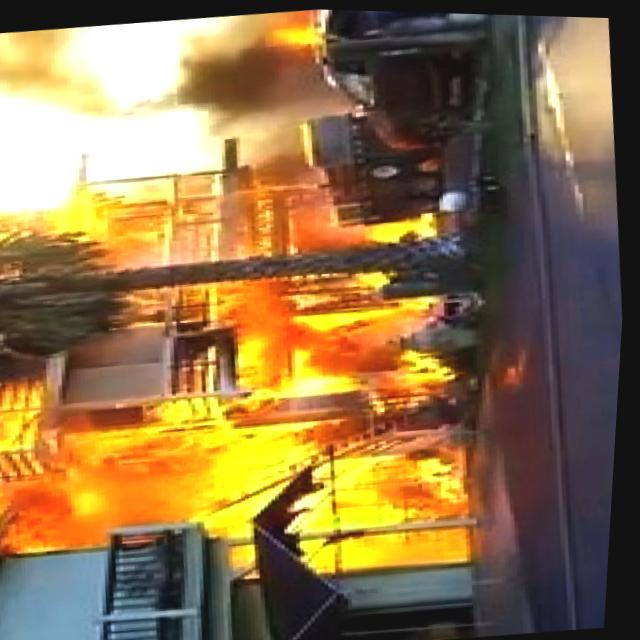fire: (87, 412, 320, 552), (252, 443, 477, 585), (229, 278, 457, 399), (0, 404, 104, 546)
